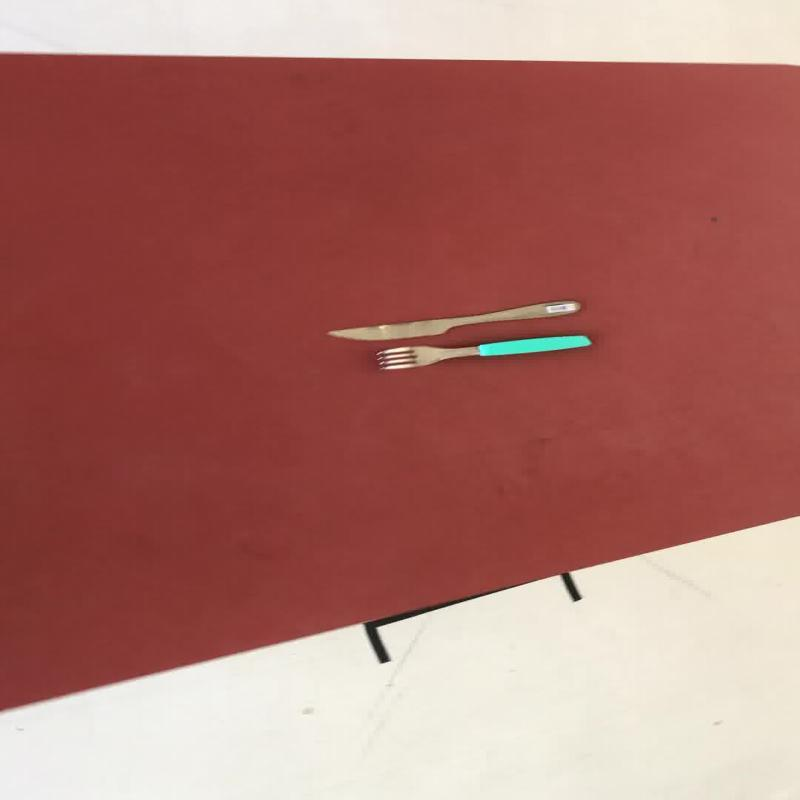fork: (373, 332, 591, 370)
knife: (323, 298, 580, 341)
